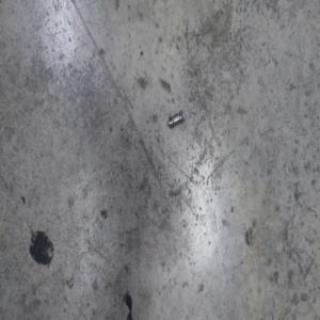Bolttrack_idkeyframe: (166, 110, 183, 130)
